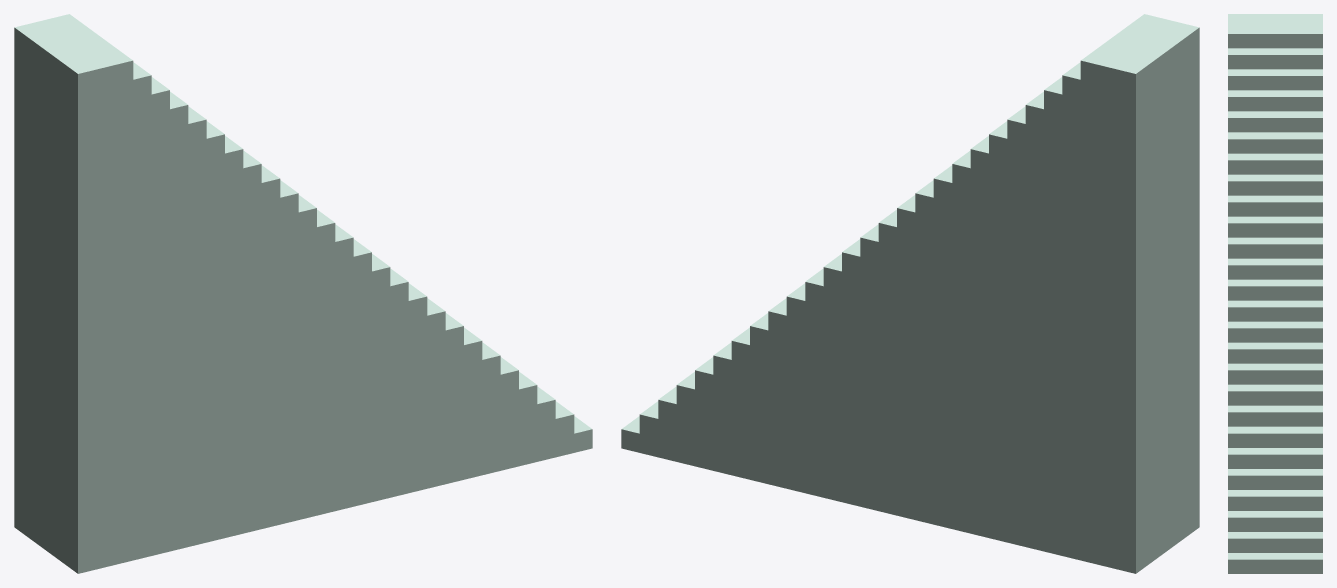
Rendered from castle-stairs01.fbx.
The picture shows the model from 3 angles, left to right: view 1: azimuth 30°, elevation 25°; view 2: azimuth 150°, elevation 25°; view 3: azimuth 270°, elevation 25°; orthographic projection. The views are drawn at different scales.
Parts seen in each view (by area): view 1: castle_stairs_01; view 2: castle_stairs_01; view 3: castle_stairs_01.
Part boxes in pixels (x1=…): castle_stairs_01: x1=14, y1=14, x2=592, y2=573; castle_stairs_01: x1=621, y1=14, x2=1199, y2=573; castle_stairs_01: x1=1228, y1=14, x2=1322, y2=573.
Bounding box in the file's own units: 700 × 650 × 150.
